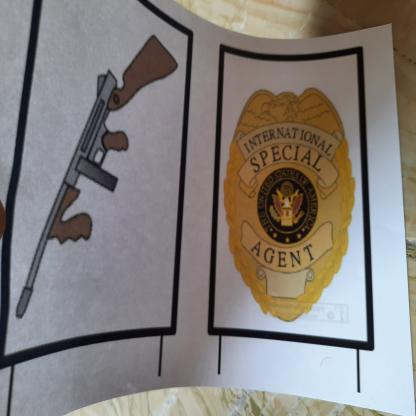Bootlegger: (15, 29, 180, 323)
G-man: (221, 68, 362, 336)
